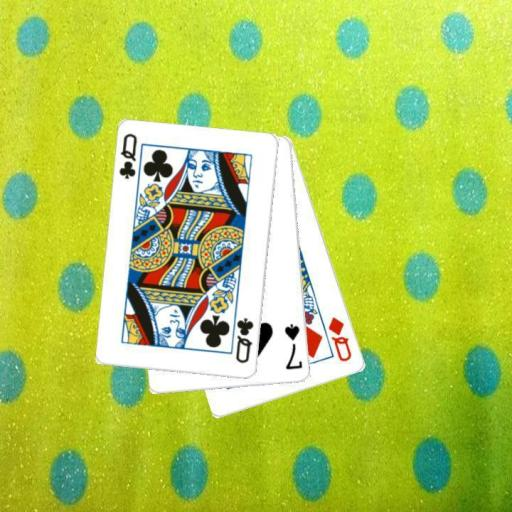card-corner: (325, 314, 353, 364), (116, 130, 139, 180), (282, 321, 304, 371), (234, 315, 256, 365)
